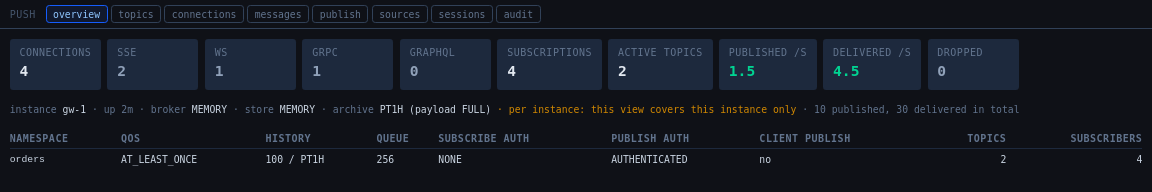
Test: PushPanel › lists the sources and the dead-letter queue, and retries an entry to a chosen topic
Click the button "sources" at (400,14), box 372,5 -> 428,23
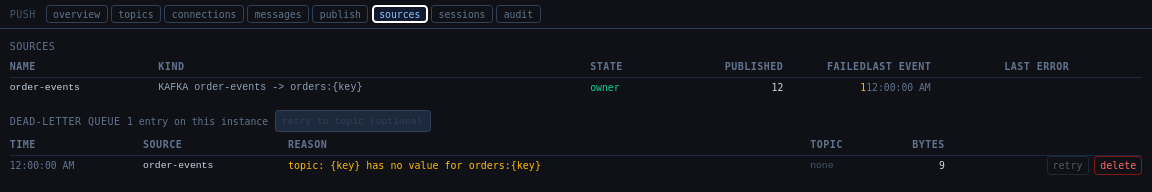
Check: the text "order-events" is shown 2 times, box 10,77 -> 158,97; 143,155 -> 288,175
Check: the text "owner" is shown, box 590,77 -> 659,97
Check: the text "topic: {key} has no value for orders:{key}" is shown, box 288,155 -> 810,175
Type "orders:9" into the field named "Retry target topic" at (352,121), box 274,110 -> 430,132
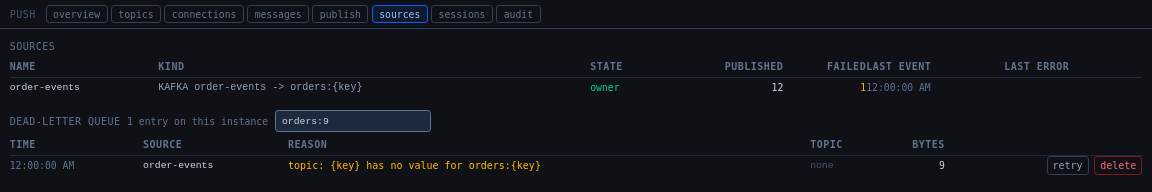
Click the button "retry" at (1068,166), box 1047,156 -> 1088,175
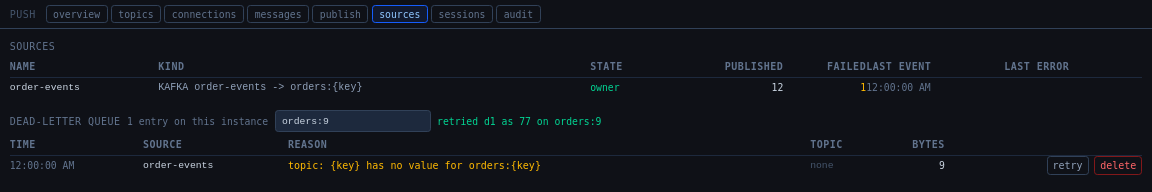
Check: the text "retried d1 as 77 on orders:9" is shown, box 437,115 -> 601,128
